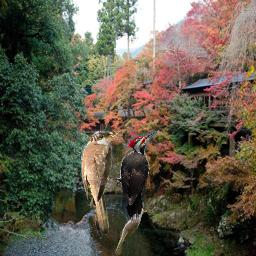Cuckoo: (81, 131, 119, 235), (114, 209, 147, 255)
Woodpecker: (112, 130, 160, 223)
